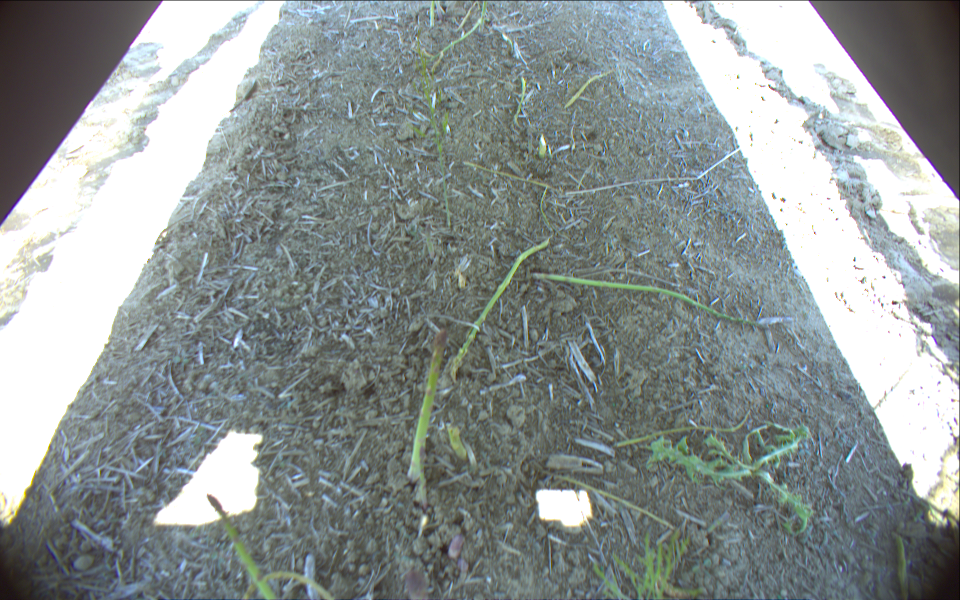aspa: (202, 489, 279, 600), (404, 326, 451, 484)
